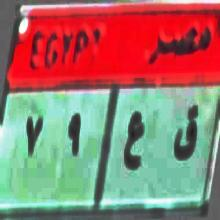7: (22, 98, 48, 177)
9: (63, 110, 93, 169)
ain: (121, 104, 146, 186)
qaaf: (170, 98, 202, 165)
